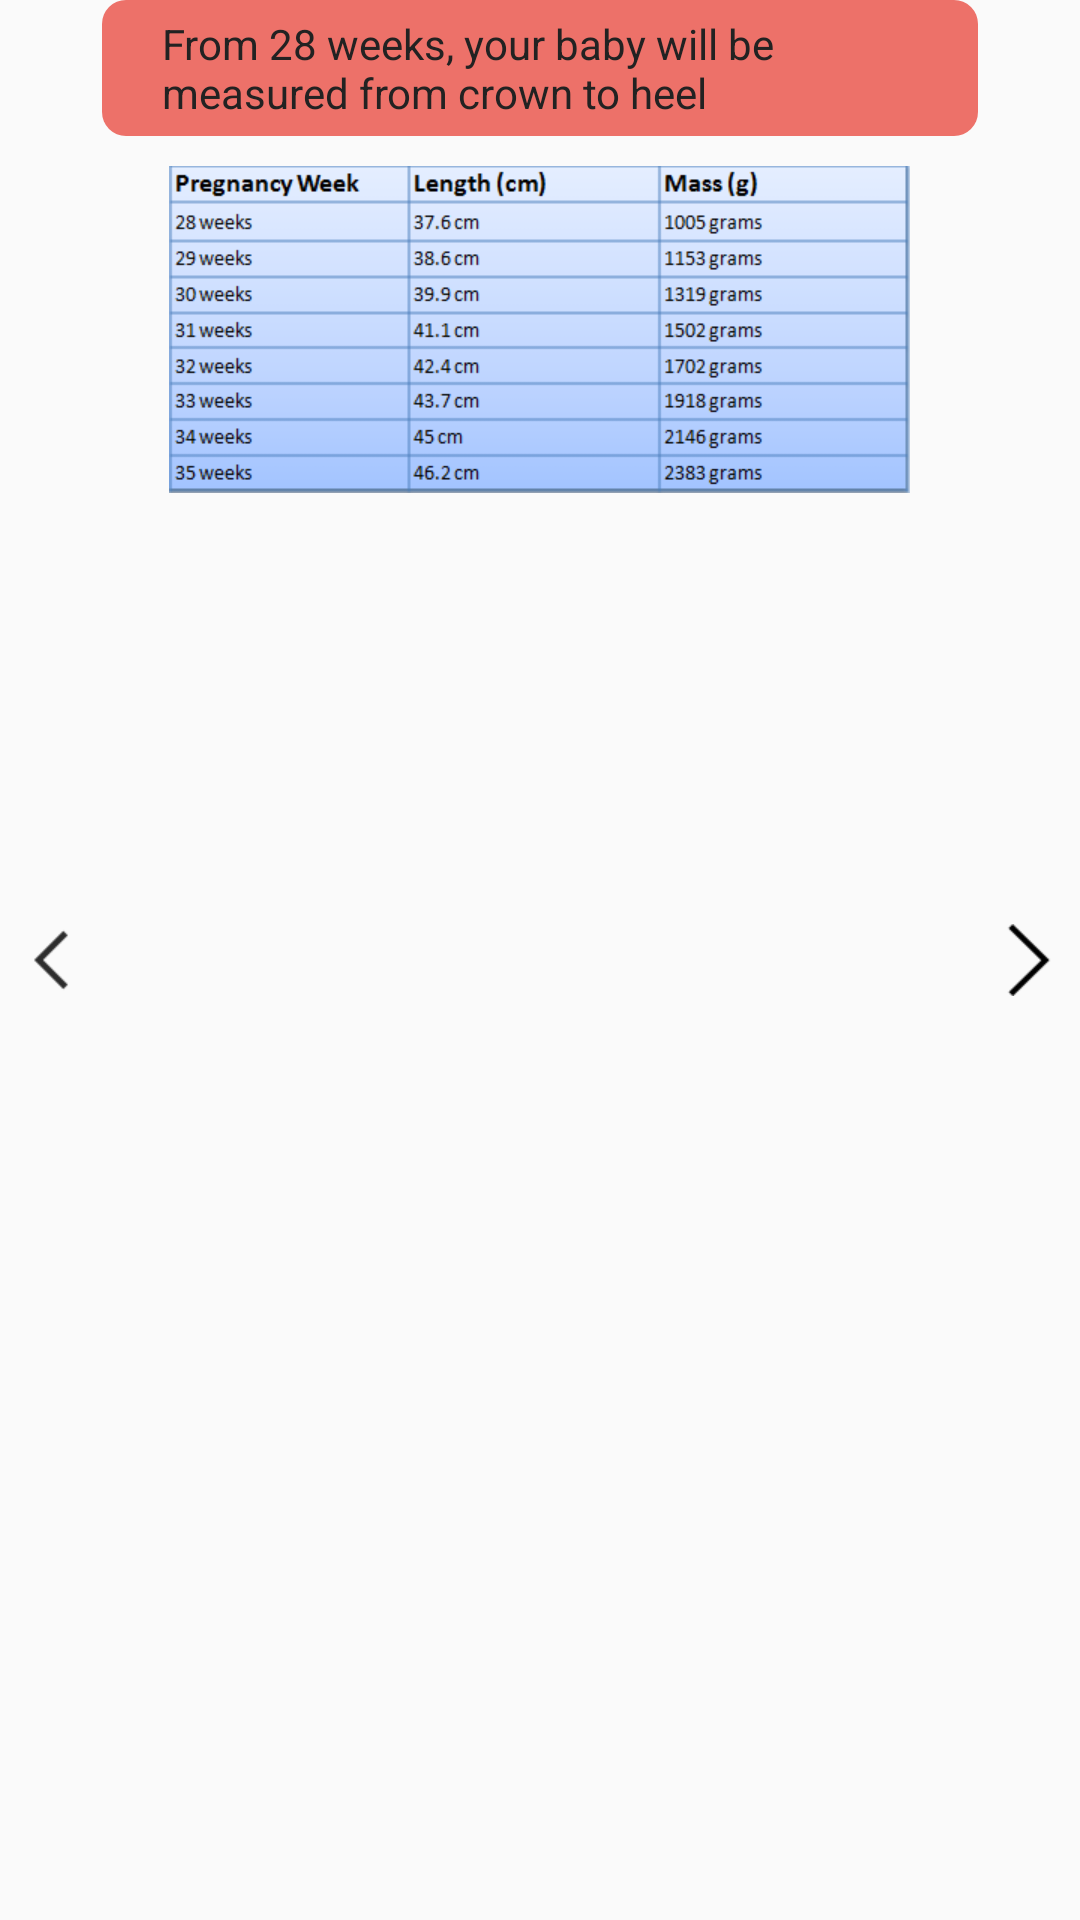

Locate icon controls on the screen. Image size 1080×1920, boxes as rect(x1, y1, x2, y2).
shangyige: rect(34, 931, 68, 989)
xiayige: rect(1008, 924, 1050, 996)
